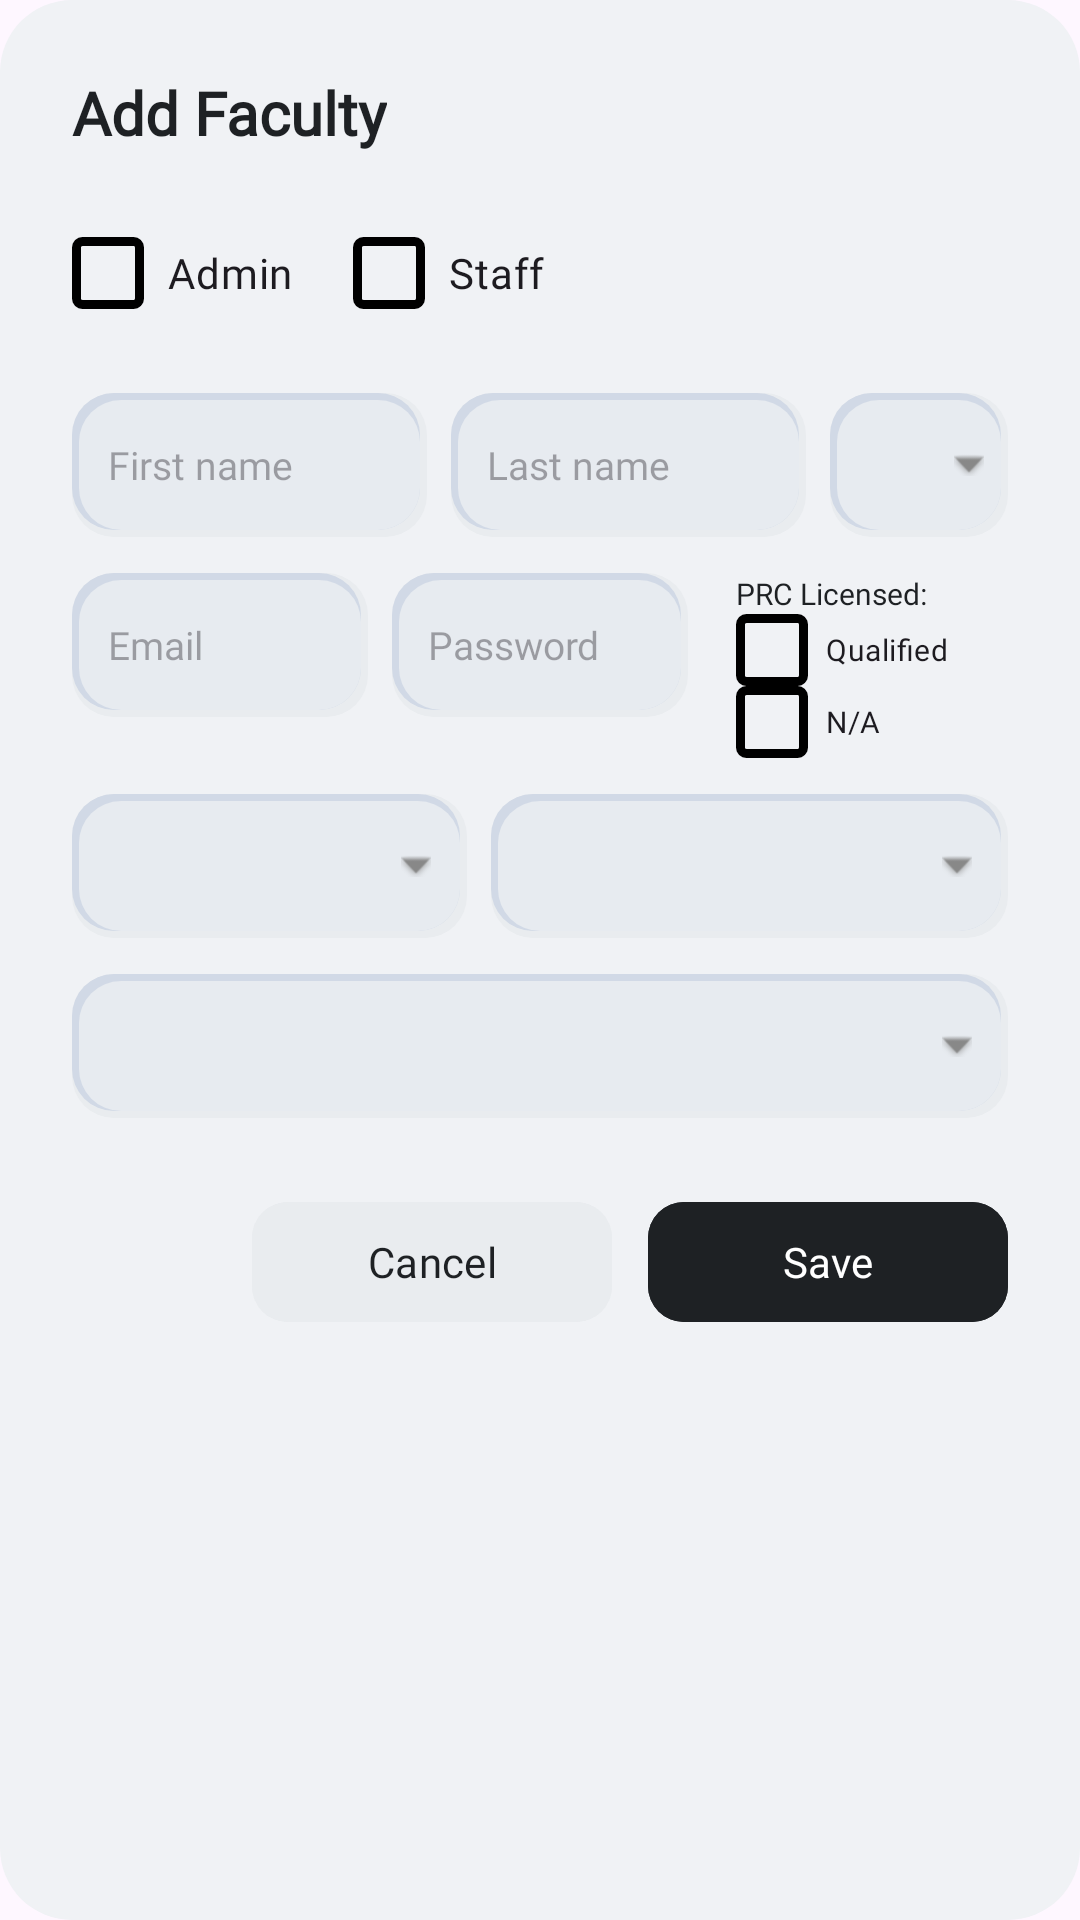

Icon bounding boxes for this 1080×1920 phone screenshot, format bbox=(x1, y1, x2, y2):
arrow down float: bbox=(954, 456, 984, 473), bbox=(401, 857, 431, 874), bbox=(942, 857, 972, 874), bbox=(942, 1037, 972, 1054)
